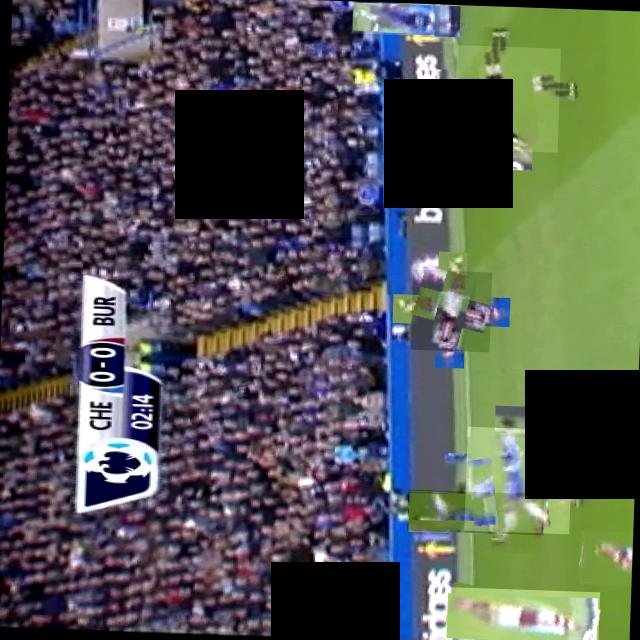referee: (452, 44, 560, 152)
soccer-player: (462, 426, 572, 534), (443, 586, 598, 640), (409, 268, 491, 352), (406, 489, 543, 535), (350, 1, 459, 37), (577, 530, 633, 586)
